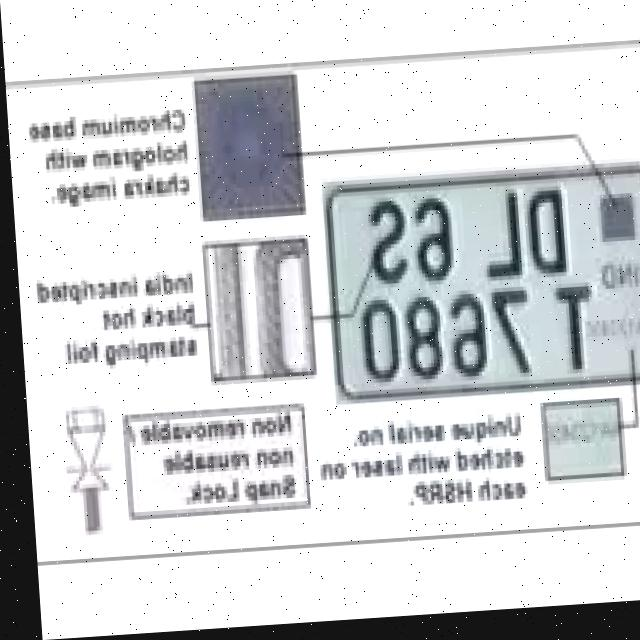plate: (319, 165, 640, 409)
